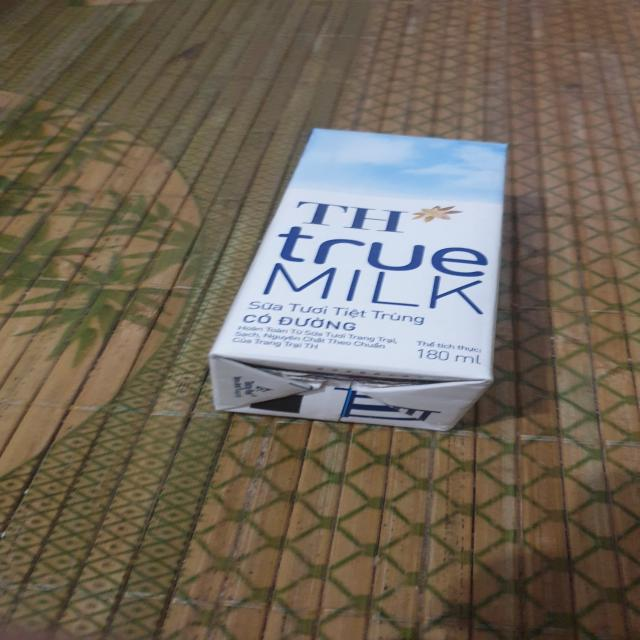TH: (213, 126, 515, 439)
